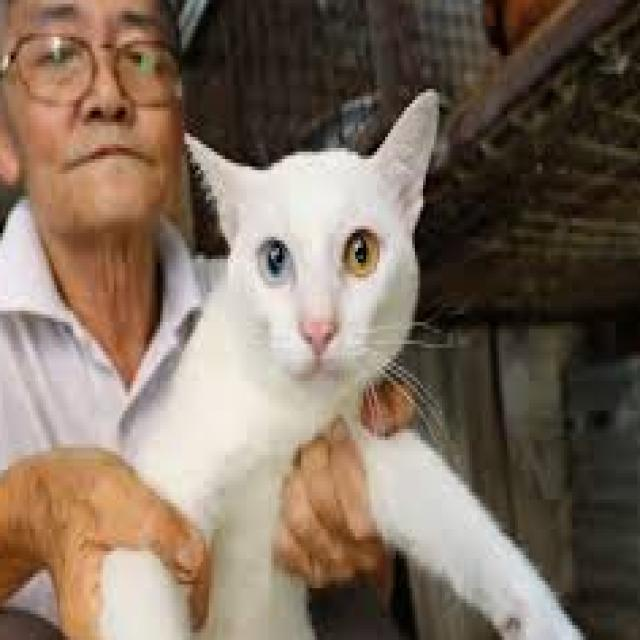Khao Manee: (95, 81, 613, 640)
